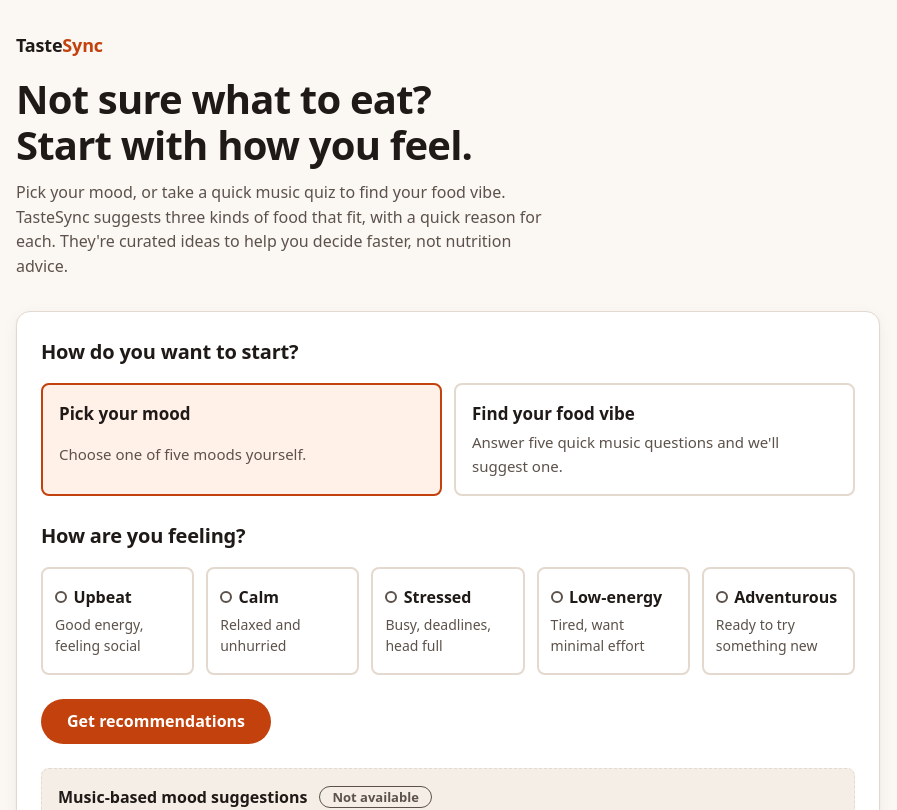
Scenario: Google restaurant search › uses the browser location only after 'Use my location' and searches near it
Click the radio button labelled "Calm" at (283, 621), box [206, 567, 359, 675]
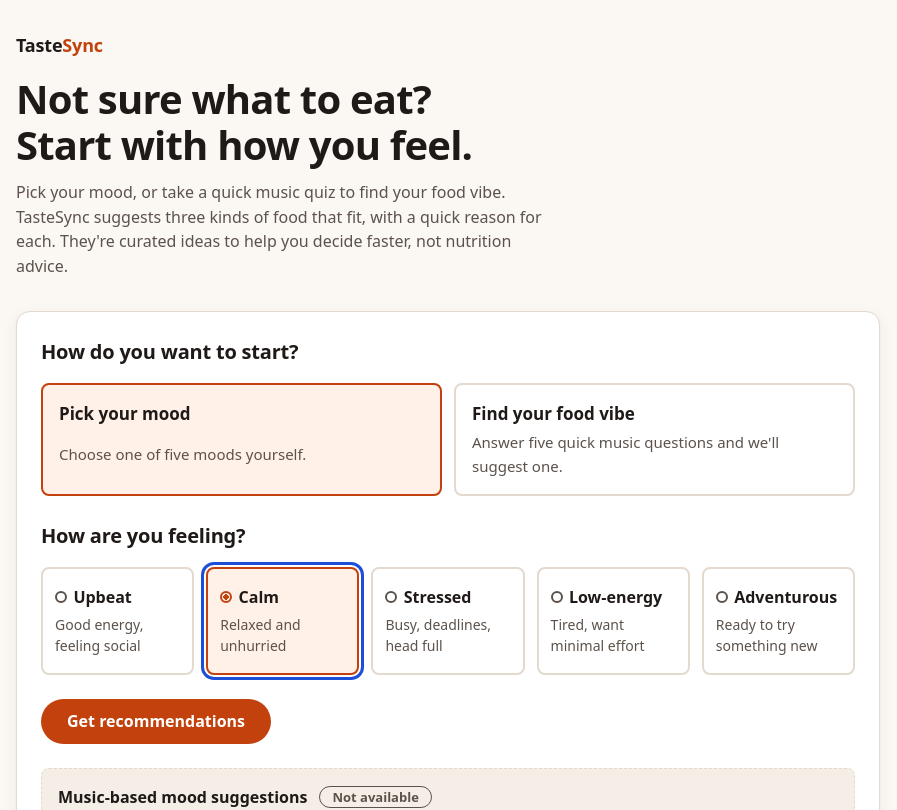
Click the button "Get recommendations" at (156, 722), box [41, 699, 271, 744]
(page scrolled)
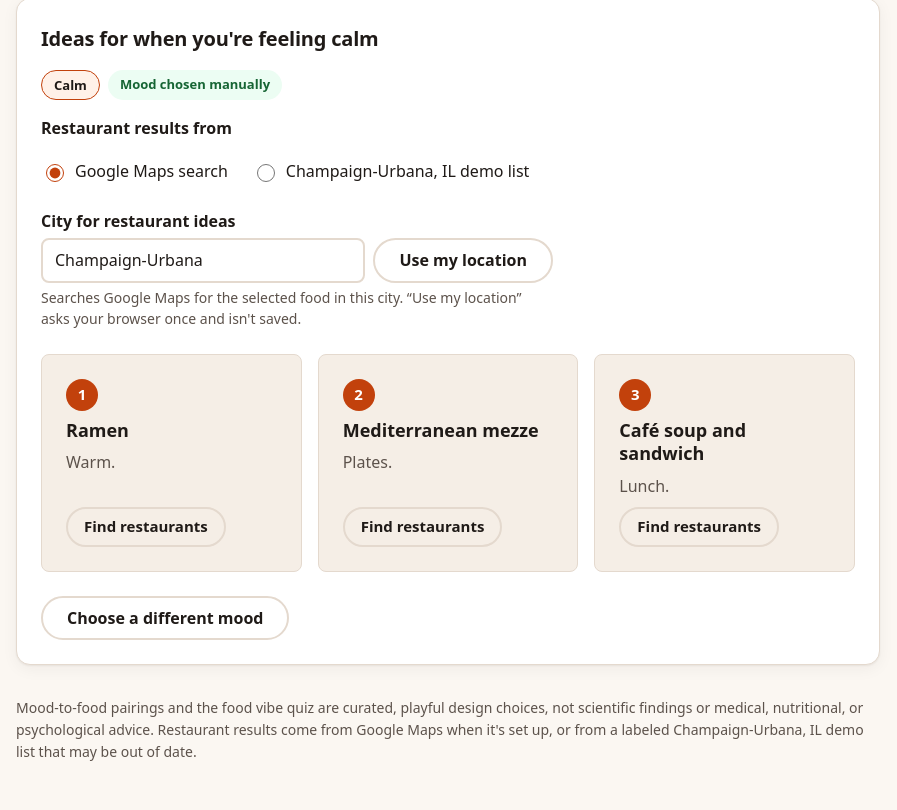
Check: the heading "Ideas for when you're feeling calm" is shown, box [41, 25, 378, 52]
// Typing a city switches back to city search.
Click the button with aria-label "Find restaurants for Ramen" at (146, 527), box [66, 507, 226, 547]
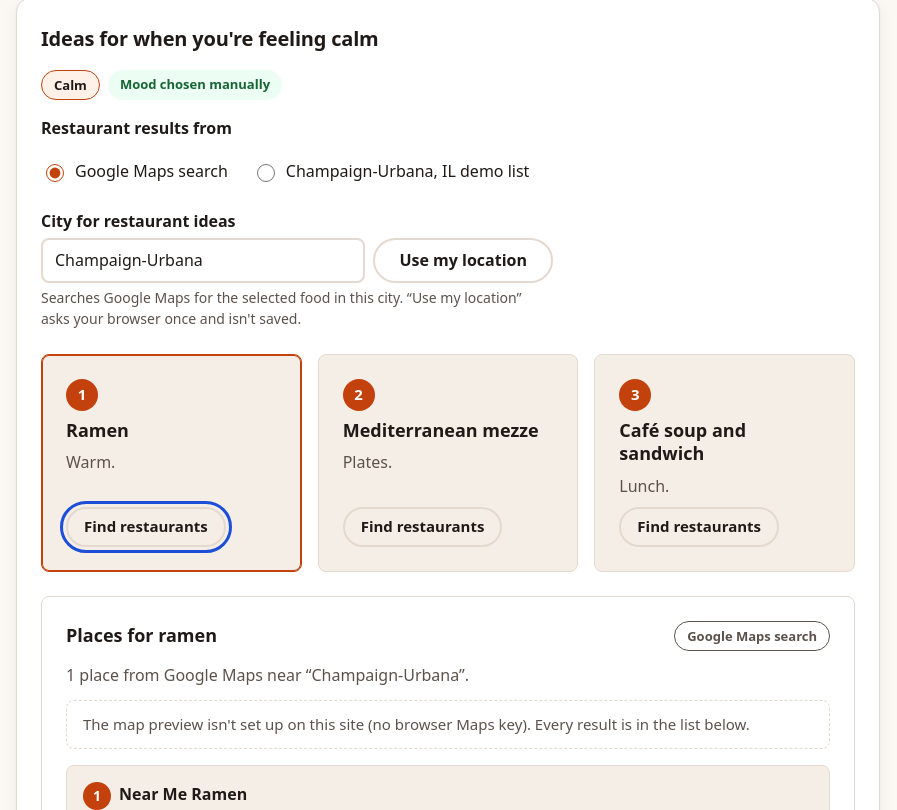
Check: the text "Near Me Ramen" is shown, box [119, 783, 247, 805]
Click the button "Use my location" at (463, 260), box [373, 238, 553, 283]
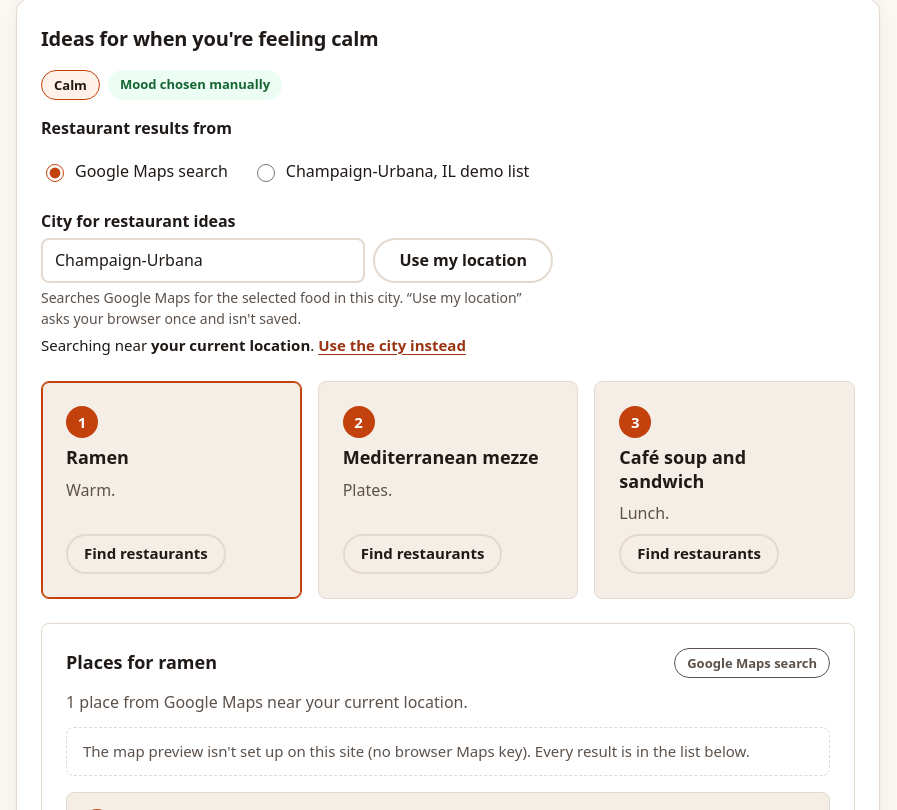
Check: the text "1 place from Google Maps near your current location." is shown, box [66, 691, 468, 713]
Check: the text "Searching near your current location. Use the city instead" is shown, box [41, 334, 466, 357]
Replace the text in the field labelled "City for restaurant ideas" with "Urbana" at (203, 260), box [41, 238, 365, 283]
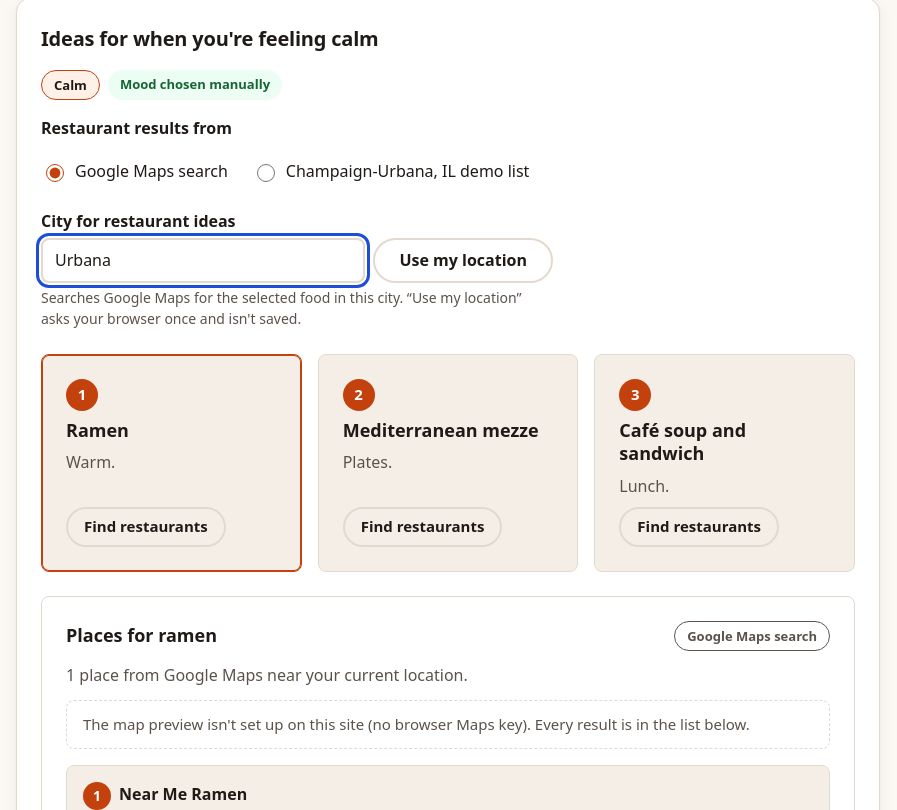
Click the button with aria-label "Find restaurants for Ramen" at (146, 527), box [66, 507, 226, 547]
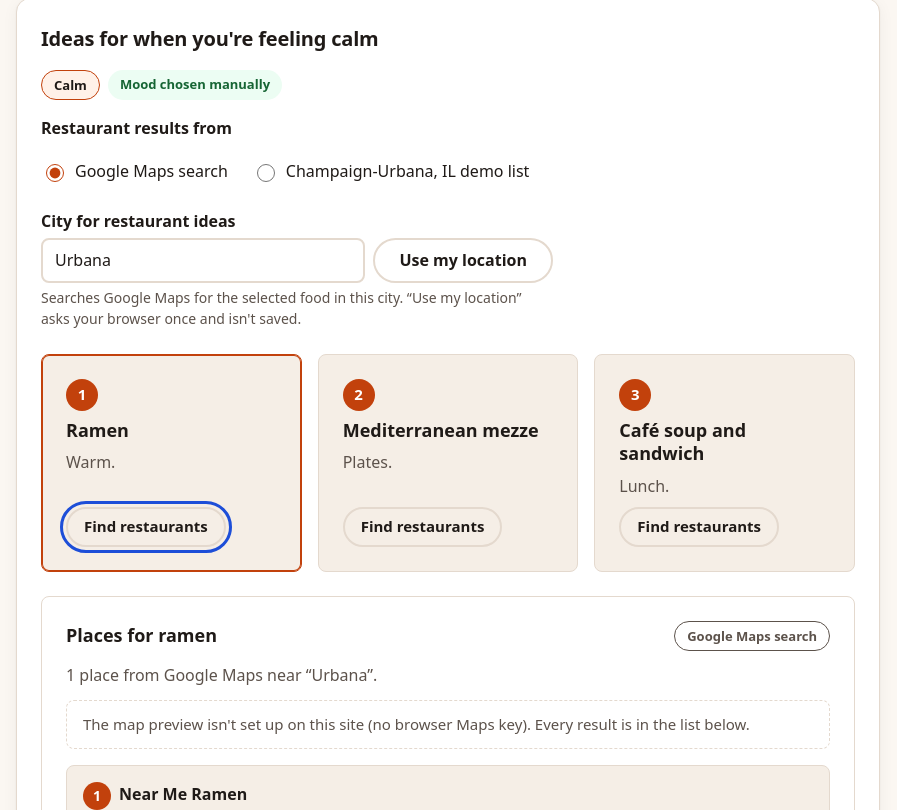
Check: the text "1 place from Google Maps near “Urbana”." is shown, box [66, 664, 377, 686]
